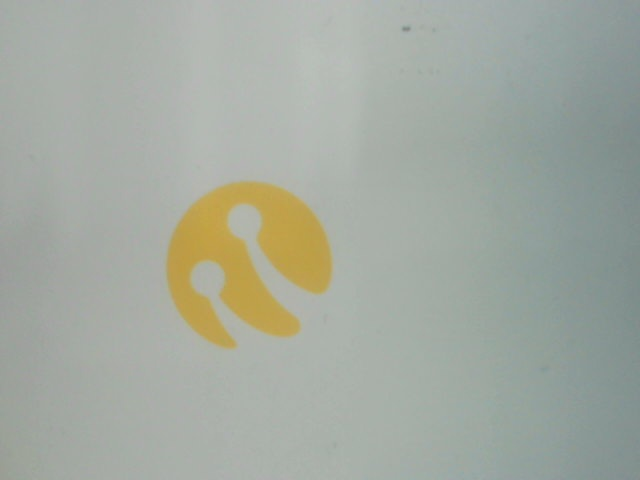AV_H3600Yellow: (143, 175, 352, 356)
